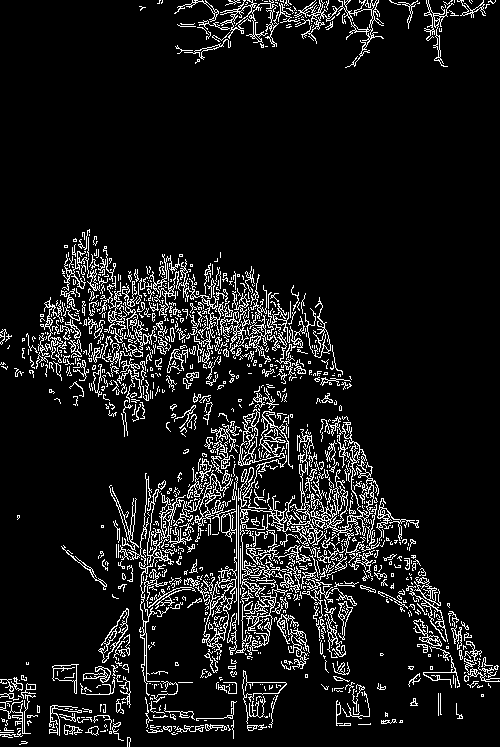eiffel tower: (81, 224, 480, 692)
